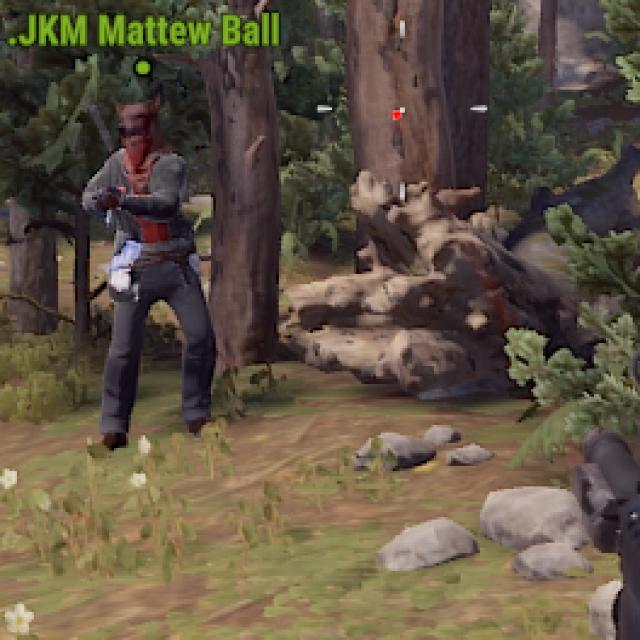Player: (85, 96, 217, 446)
